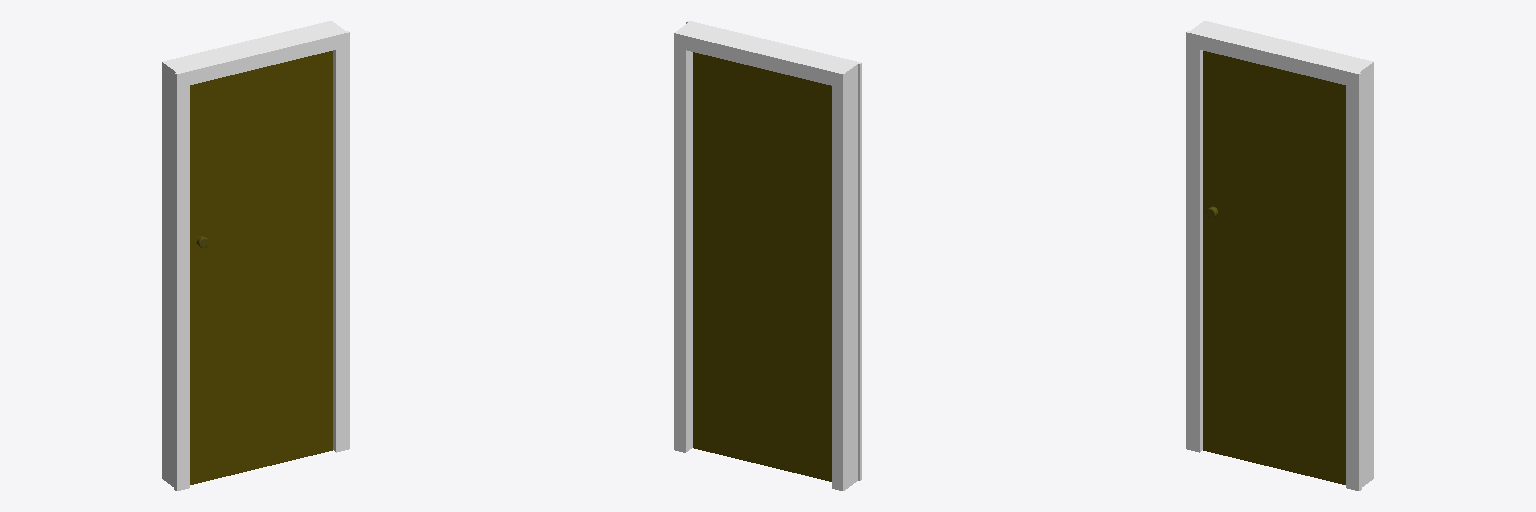
The robot description file, URDF, robot "object_8994":
<?xml version='1.0' encoding='utf-8'?>
<robot name="object_8994">
  <link name="fixed_root">
    <visual name="frame">
      <origin xyz="0 0 0" rpy="0 0 0" />
      <geometry>
        <mesh filename="meshes/mesh_000.obj" scale="1 1 1" />
      </geometry>
      <material name="mesh_000_material">
        <color rgba="1 1 1 1" />
        <texture filename="textures/mesh_000_basecolor.png" />
      </material>
    </visual>
  </link>
  <link name="link_door_hinge">
    <visual name="door_leaf">
      <origin xyz="0 0 0" rpy="0 0 0" />
      <geometry>
        <mesh filename="meshes/mesh_001.obj" scale="1 1 1" />
      </geometry>
      <material name="mesh_001_material">
        <color rgba="0.4000000059604645 0.3499999940395355 0.054999999701976776 1.0" />
      </material>
    </visual>
  </link>
  <link name="link_knob_spindle">
    <visual name="door_knob">
      <origin xyz="0 0 0" rpy="0 0 0" />
      <geometry>
        <mesh filename="meshes/mesh_002.obj" scale="1 1 1" />
      </geometry>
      <material name="mesh_002_material">
        <color rgba="0.38999998569488525 0.34700000286102295 0.10199999809265137 1.0" />
      </material>
    </visual>
  </link>
  <joint name="door_hinge" type="revolute">
    <parent link="fixed_root" />
    <child link="link_door_hinge" />
    <origin xyz="0.18198299408 -0.0238292999566 0" rpy="0 0 0" />
    <axis xyz="0 0 1" />
    <limit lower="0.0" upper="0.5235987755982988" effort="0" velocity="0" />
  </joint>
  <joint name="knob_spindle" type="revolute">
    <parent link="link_door_hinge" />
    <child link="link_knob_spindle" />
    <origin xyz="-0.33412078023 0 0.582547724247" rpy="0 0 0" />
    <axis xyz="-1.24755328286e-18 1 0" />
    <limit lower="-0.5235987755982988" upper="0.5235987755982988" effort="0" velocity="0" />
  </joint>
</robot>

--- Render facts (derived) ---
3 views of the same robot in one strip: view 1: azimuth 30°, elevation 25°; view 2: azimuth 150°, elevation 25°; view 3: azimuth 330°, elevation 25° (orthographic).
Model object_8994 with 3 links and 2 joints (2 revolute), rooted at fixed_root, posed all joints at 0.
Links seen in each view (by area): view 1: link_door_hinge, fixed_root; view 2: link_door_hinge, fixed_root; view 3: link_door_hinge, fixed_root.
Boxes of the visible links, <box> form: link_door_hinge: <box>190,51,332,484</box>; fixed_root: <box>162,21,349,490</box>; link_door_hinge: <box>693,52,831,481</box>; fixed_root: <box>674,21,861,490</box>; link_door_hinge: <box>1203,51,1345,484</box>; fixed_root: <box>1186,21,1373,490</box>.
Bounding box of the posed robot: 0.435 × 0.0789 × 1 m (x, y, z).
3 mesh visuals loaded from 3 distinct referenced files (3 OBJ).
